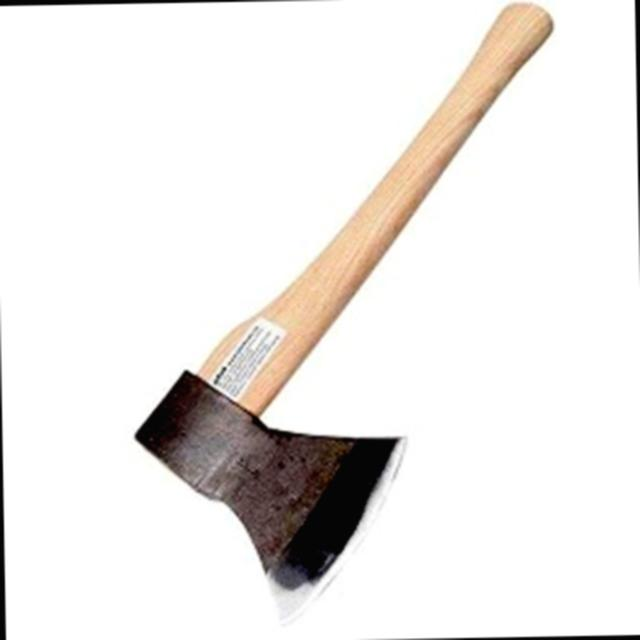ax: (115, 0, 574, 638)
